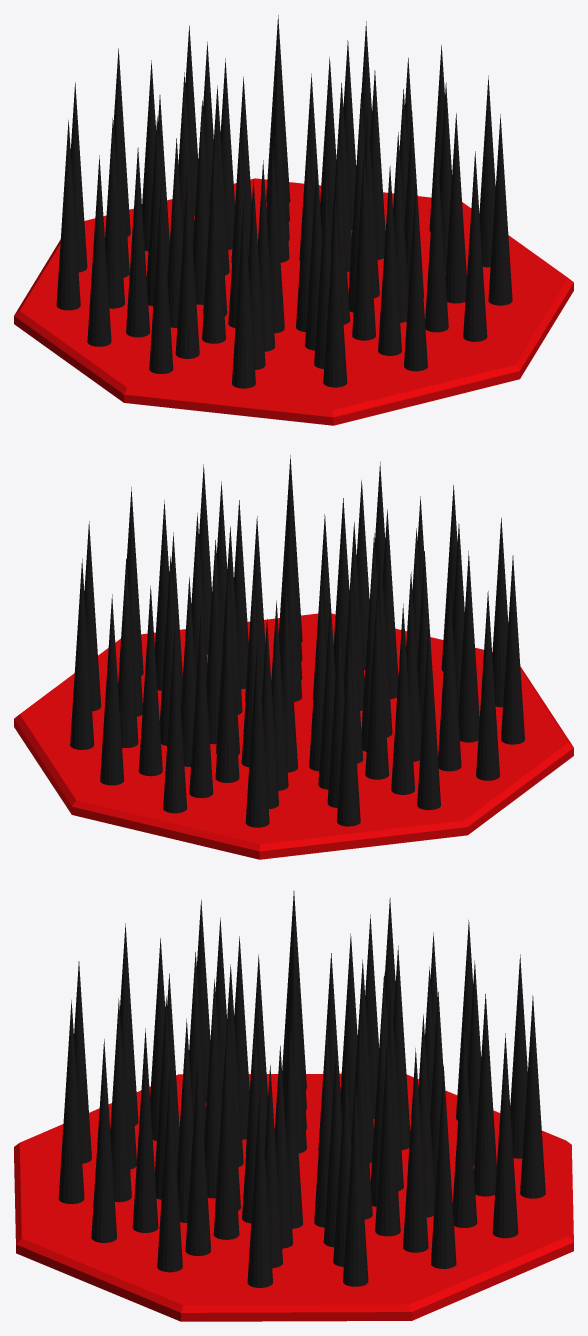
The model's file is pic.obj.
The picture shows the model from 3 angles, top to bottom: view 1: azimuth 30°, elevation 25°; view 2: azimuth 150°, elevation 25°; view 3: azimuth 270°, elevation 25°; orthographic projection. The views are drawn at different scales.
Parts seen in each view (by area): view 1: Pics; view 2: Pics; view 3: Pics.
Part boxes in pixels (box(x1,y1,x2,y2)): Pics: box(14, 15, 573, 425); Pics: box(14, 455, 573, 859); Pics: box(14, 891, 573, 1321).
Bounding box in the file's own units: 0.4482 × 0.1889 × 0.4482.
